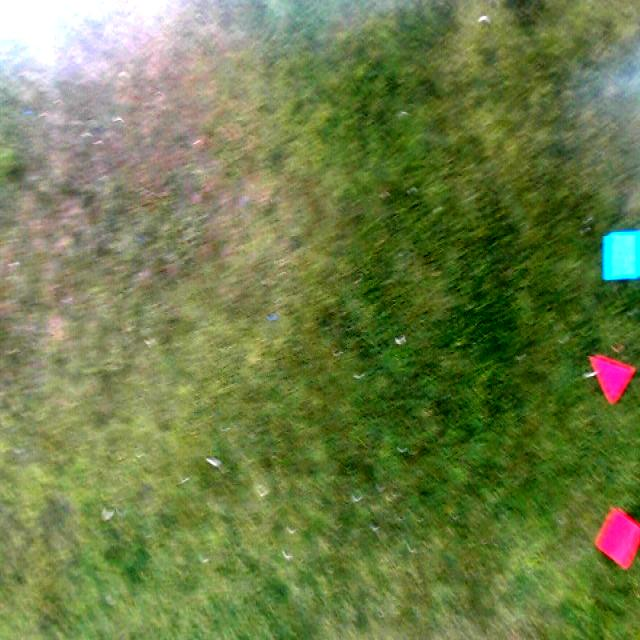blue_square: (603, 231, 640, 277)
red_square: (595, 508, 640, 571)
red_triangle: (588, 352, 635, 406)
